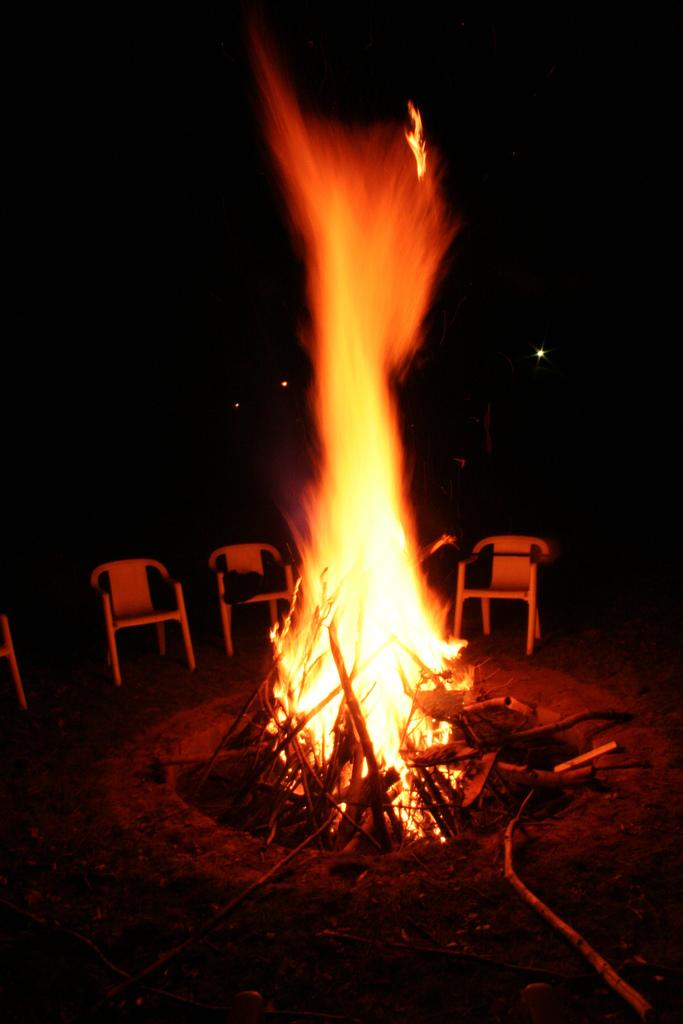fire: (318, 168, 392, 500), (318, 530, 408, 722)
